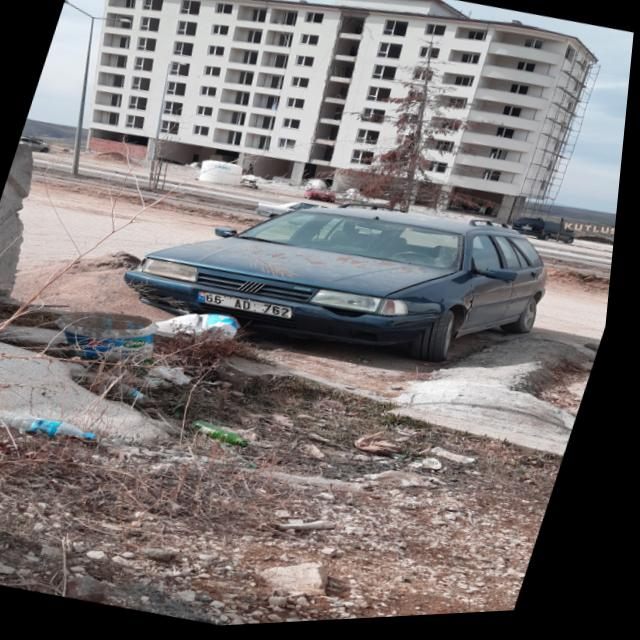plate: (198, 288, 302, 326)
